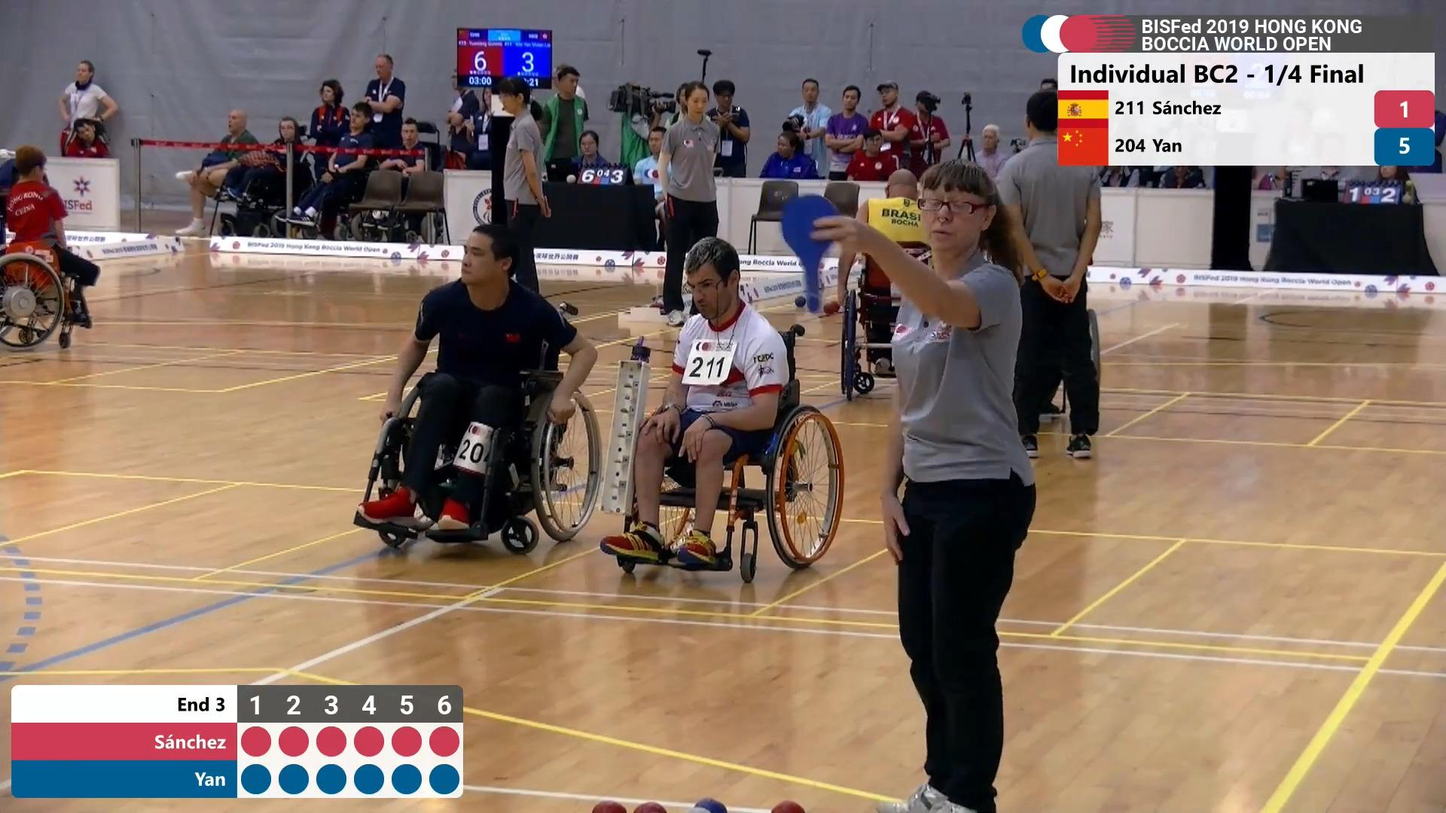blue_ball: (697, 797, 728, 813)
red_ball: (592, 799, 623, 813), (771, 799, 801, 813), (635, 801, 665, 813)
